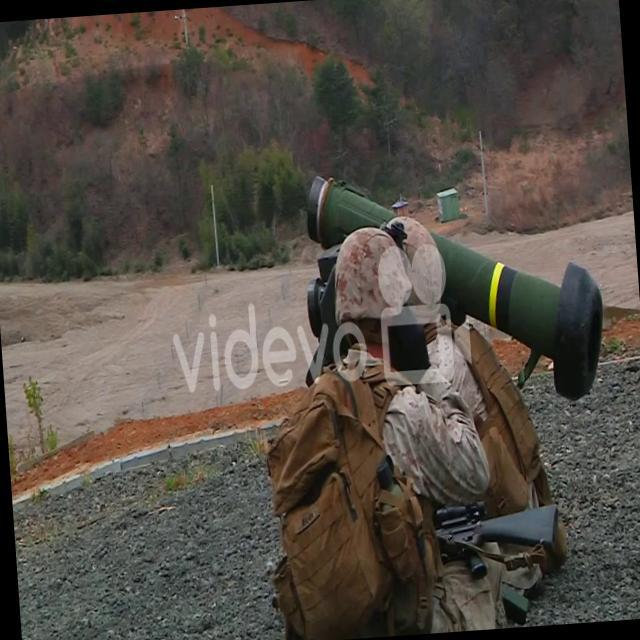rocket: (310, 154, 608, 416)
